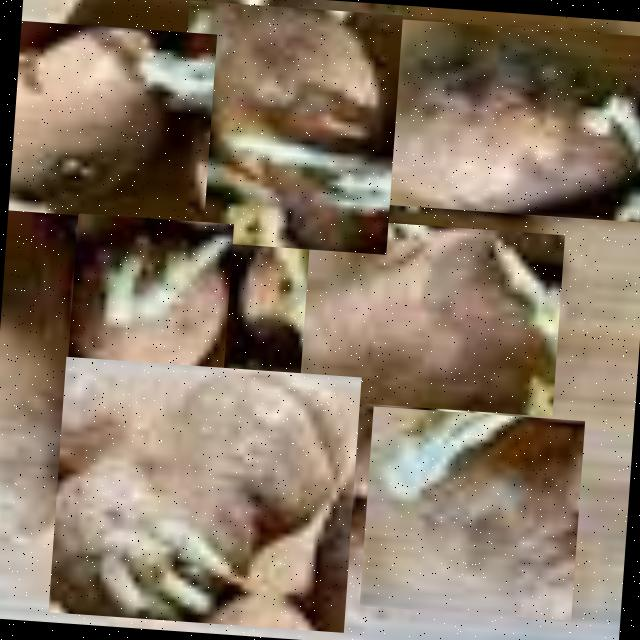Sprouted potato: (47, 357, 360, 632), (172, 0, 402, 254), (297, 217, 564, 416), (388, 19, 640, 222), (358, 406, 584, 620), (7, 20, 216, 224), (64, 213, 232, 411)
